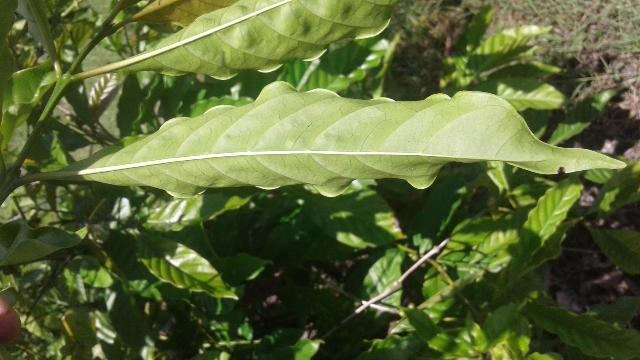healthy: (54, 82, 628, 198)
